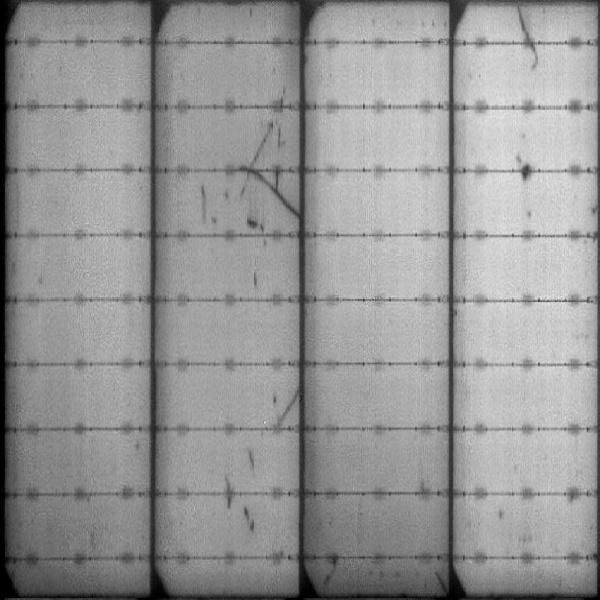scratch: (222, 478, 263, 540), (249, 173, 295, 220), (512, 10, 540, 70), (255, 111, 282, 167), (194, 180, 221, 233), (278, 388, 298, 430), (433, 564, 448, 595)
